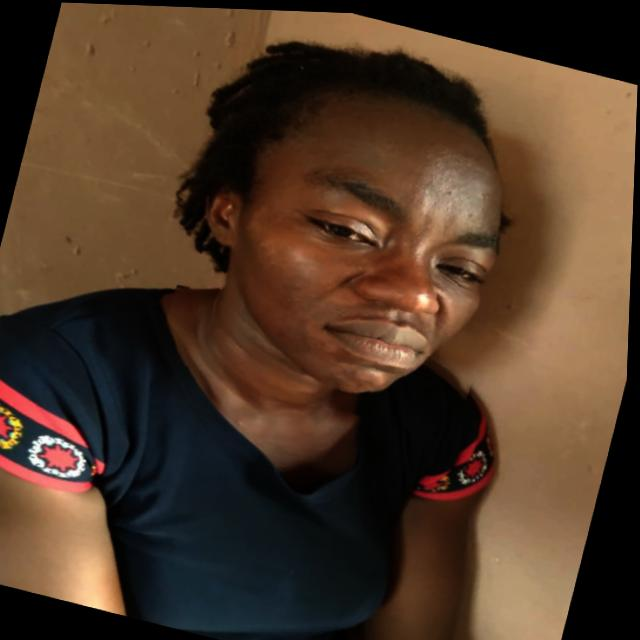sad: (157, 43, 545, 440)
